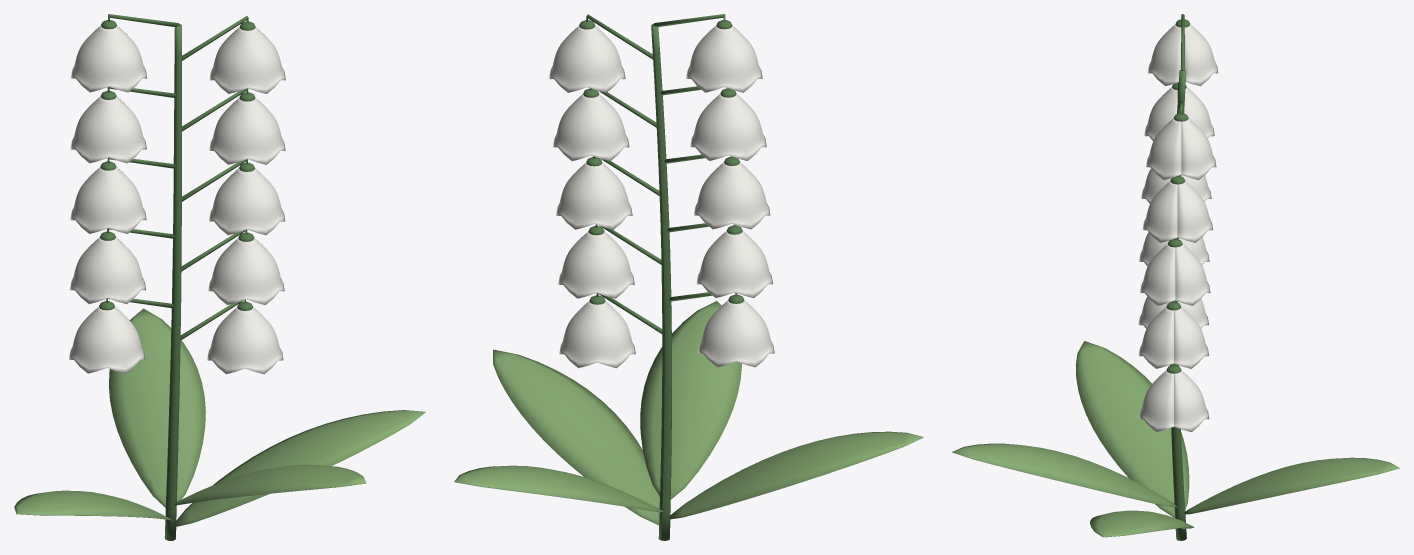
The model's file is lily-epic-v2.glb.
The picture shows the model from 3 angles, left to right: view 1: azimuth 30°, elevation 25°; view 2: azimuth 150°, elevation 25°; view 3: azimuth 270°, elevation 25°; orthographic projection. The views are drawn at different scales.
Parts seen in each view (by area): view 1: lily-epic-v2-petal, lily-epic-v2-leaf, lily-epic-v2-stem; view 2: lily-epic-v2-petal, lily-epic-v2-leaf, lily-epic-v2-stem; view 3: lily-epic-v2-petal, lily-epic-v2-leaf, lily-epic-v2-stem.
Boxes of the visible parts, x1=… form: lily-epic-v2-petal: x1=69, y1=25, x2=285, y2=374; lily-epic-v2-leaf: x1=14, y1=308, x2=425, y2=526; lily-epic-v2-stem: x1=99, y1=14, x2=255, y2=540; lily-epic-v2-petal: x1=549, y1=25, x2=774, y2=368; lily-epic-v2-leaf: x1=454, y1=301, x2=923, y2=525; lily-epic-v2-stem: x1=579, y1=14, x2=744, y2=540; lily-epic-v2-petal: x1=1138, y1=24, x2=1217, y2=431; lily-epic-v2-leaf: x1=952, y1=341, x2=1399, y2=537; lily-epic-v2-stem: x1=1166, y1=14, x2=1190, y2=540.
Bounding box in the file's own units: 1.43 × 1.75 × 1.43.
